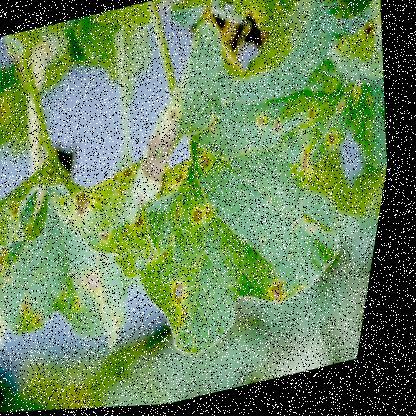AlternariaBrassicicola: (83, 264, 122, 303), (72, 184, 102, 221), (19, 289, 48, 319), (276, 280, 301, 307), (300, 147, 320, 179), (177, 281, 198, 308), (181, 310, 203, 334), (195, 206, 214, 232), (38, 306, 59, 328), (123, 163, 146, 183), (201, 152, 218, 175), (256, 114, 274, 133), (275, 119, 290, 138), (118, 183, 134, 200), (140, 215, 153, 233), (178, 204, 189, 224)
